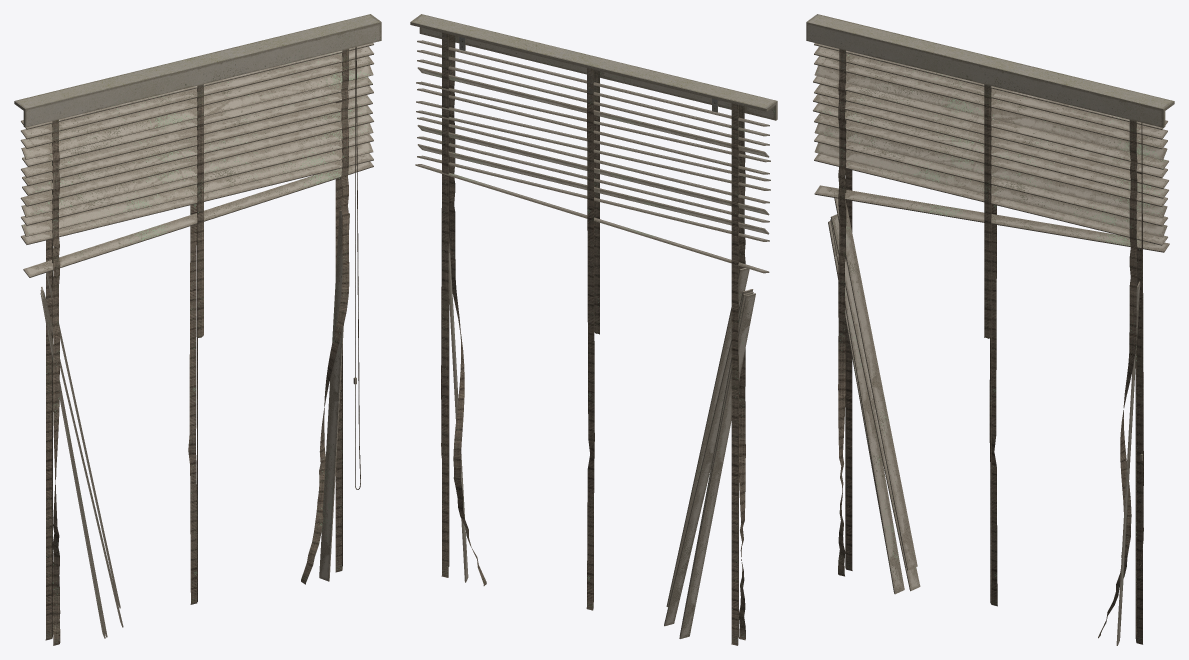
The model's file is JalousieD.fbx.
The picture shows the model from 3 angles, left to right: view 1: azimuth 30°, elevation 25°; view 2: azimuth 150°, elevation 25°; view 3: azimuth 330°, elevation 25°; orthographic projection.
Visible parts, largest first — view 1: JalousieD_LOD0; view 2: JalousieD_LOD0; view 3: JalousieD_LOD0.
Boxes of the visible parts, <box> form: JalousieD_LOD0: <box>14,14,381,645</box>; JalousieD_LOD0: <box>410,14,777,645</box>; JalousieD_LOD0: <box>806,14,1174,645</box>.
Size of what is drawn, in the model's own units: 130 by 193 by 8.8.
